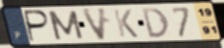7: (171, 6, 192, 38)
D: (140, 7, 171, 40)
K: (112, 8, 140, 39)
M: (46, 9, 86, 41)
P: (23, 9, 52, 43)
V: (79, 7, 110, 42)
